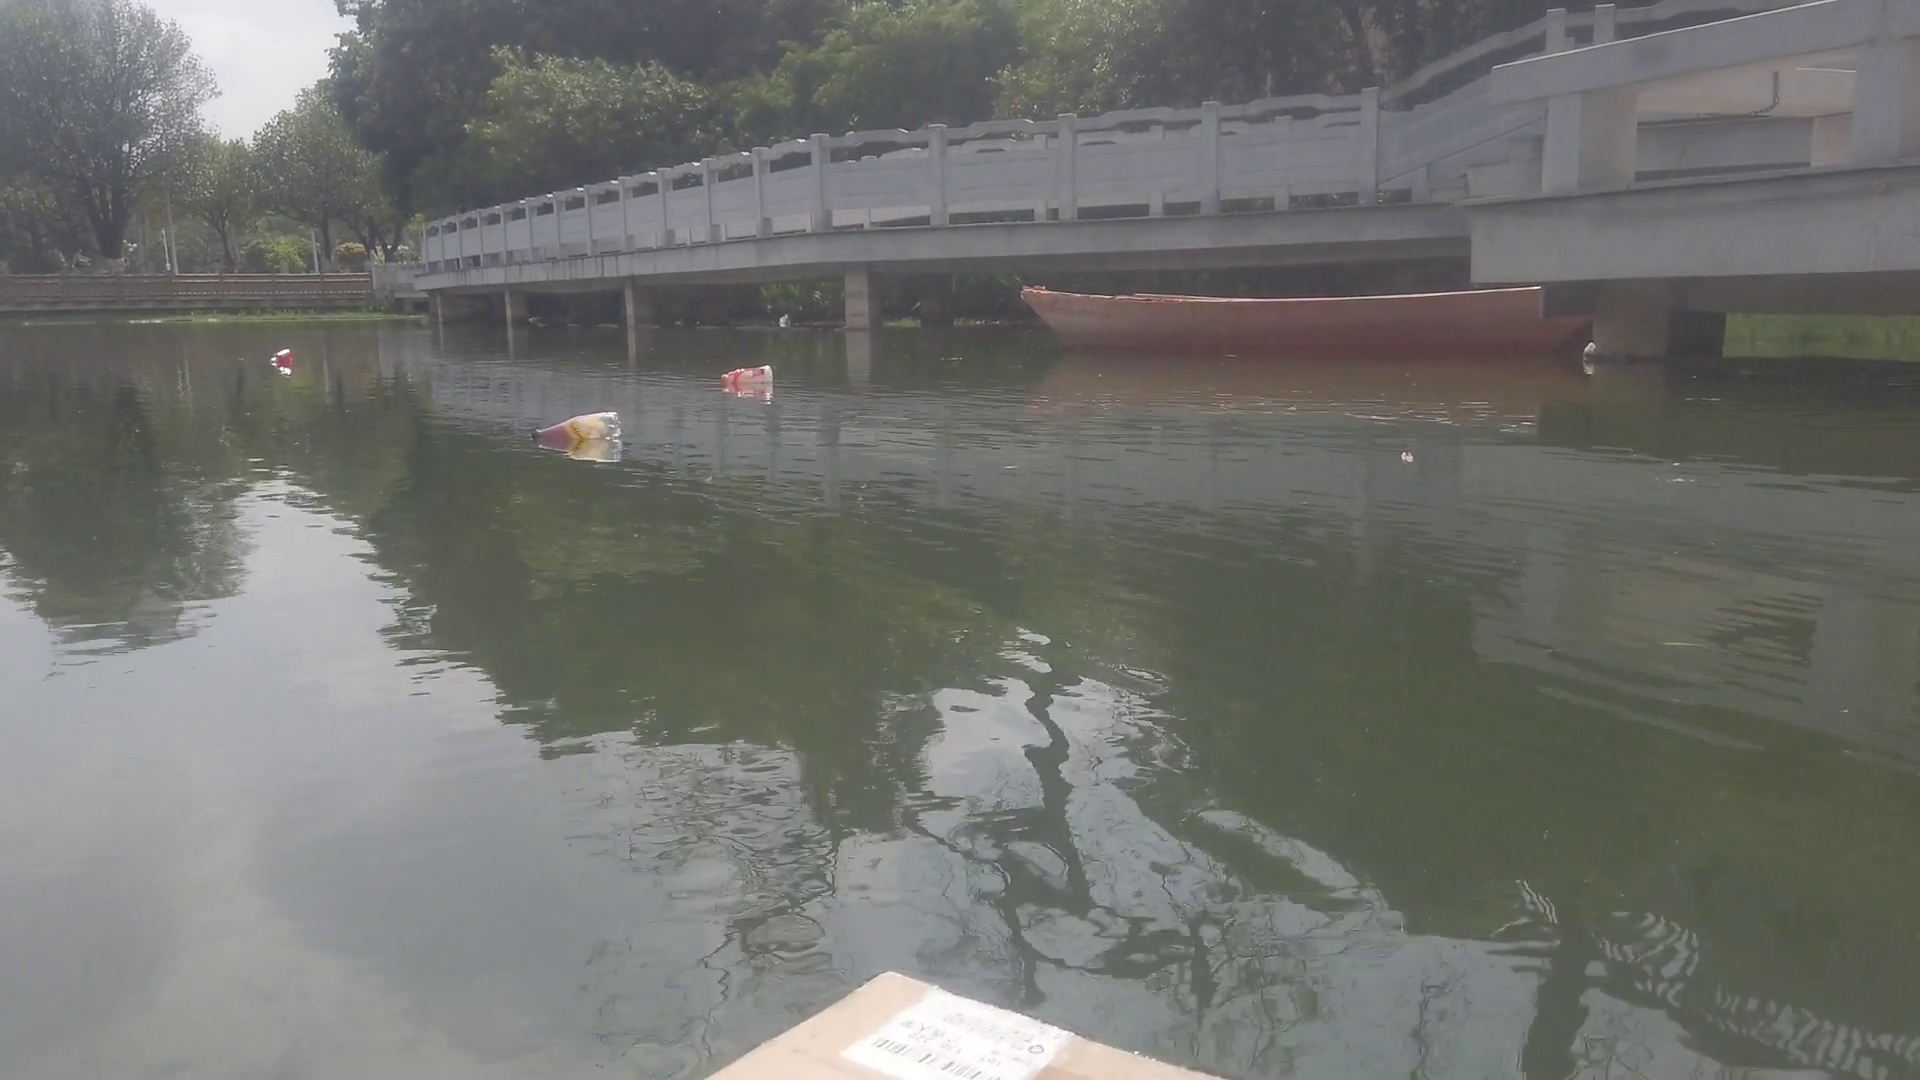bottle: (531, 407, 622, 440), (717, 363, 774, 389), (268, 347, 294, 367)
paper: (686, 971, 1267, 1080)
